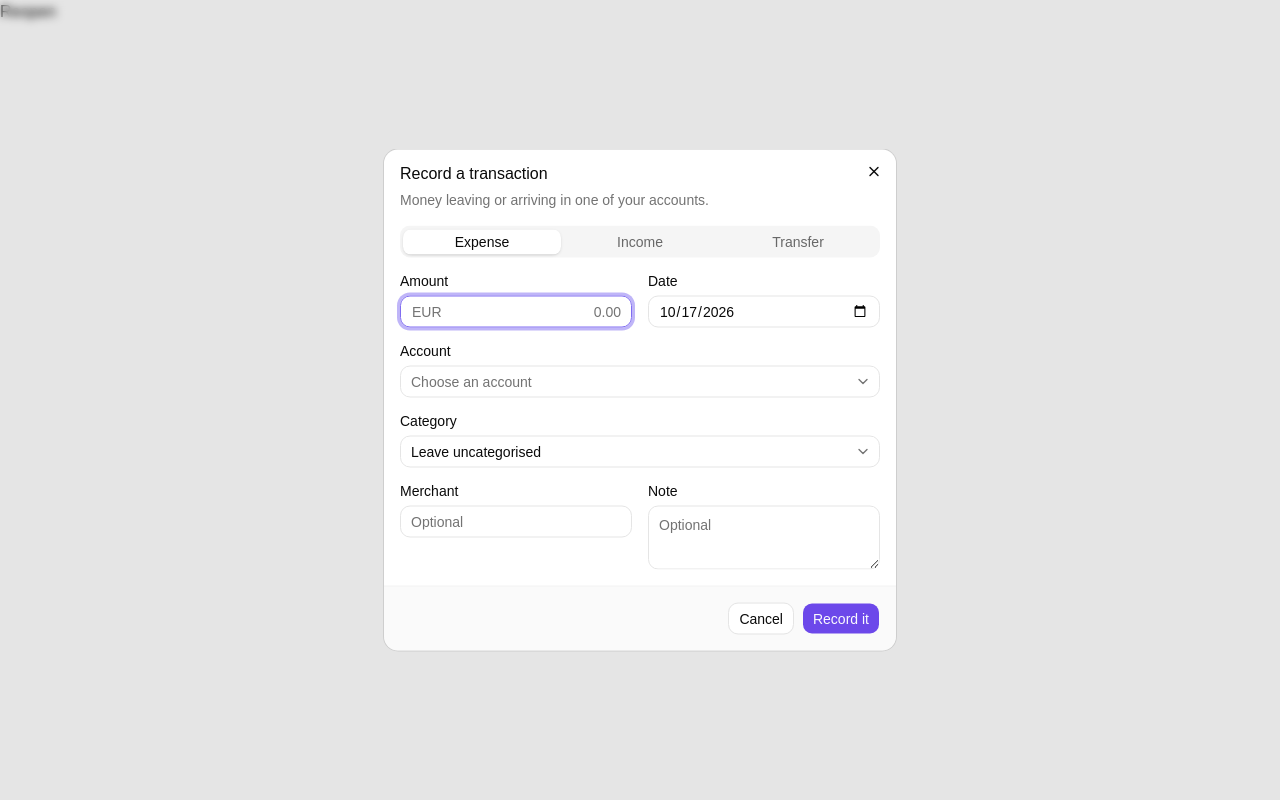
it: seeding the form › keeps what the user typed while the list is still on the way
Type "Tesco" into the field labelled "Merchant". click: (516,522)
box: left=400, top=506, right=632, bottom=538
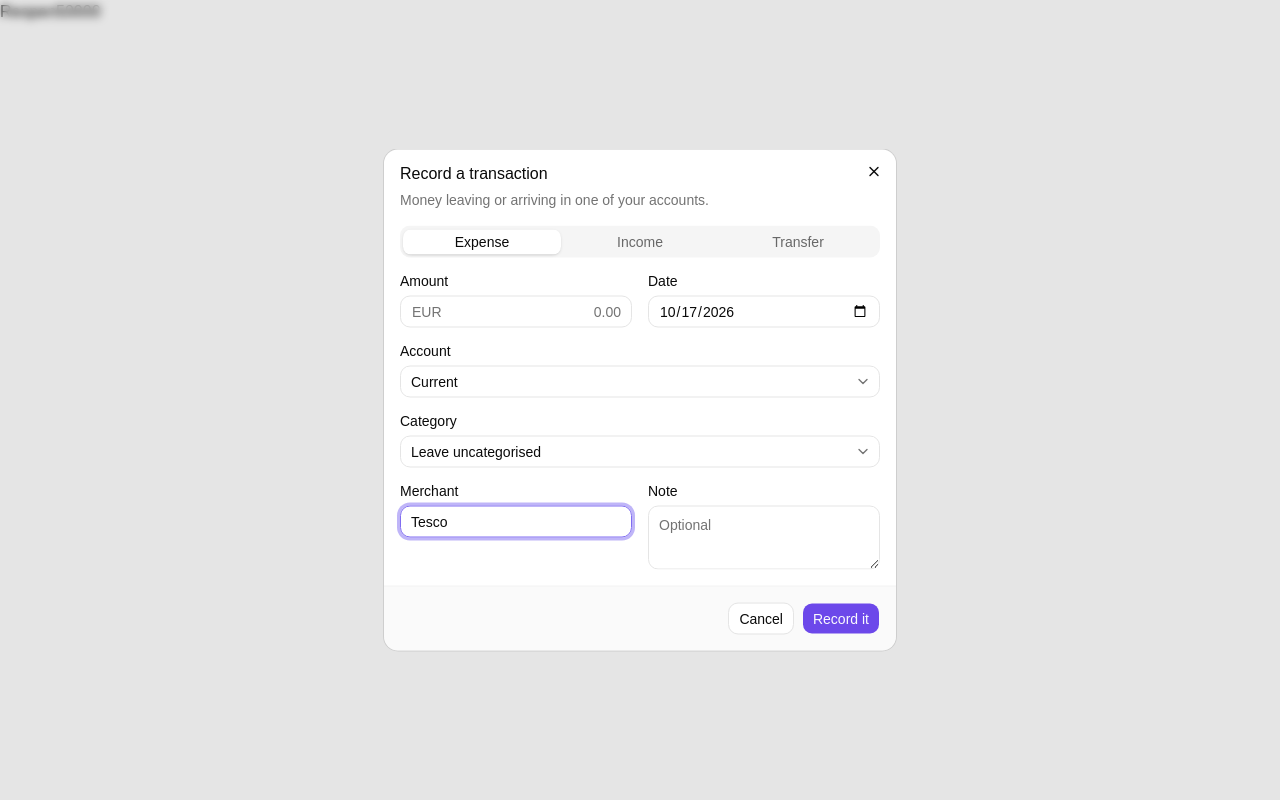
Now the text "Current" is shown, box left=411, top=372, right=458, bottom=392
